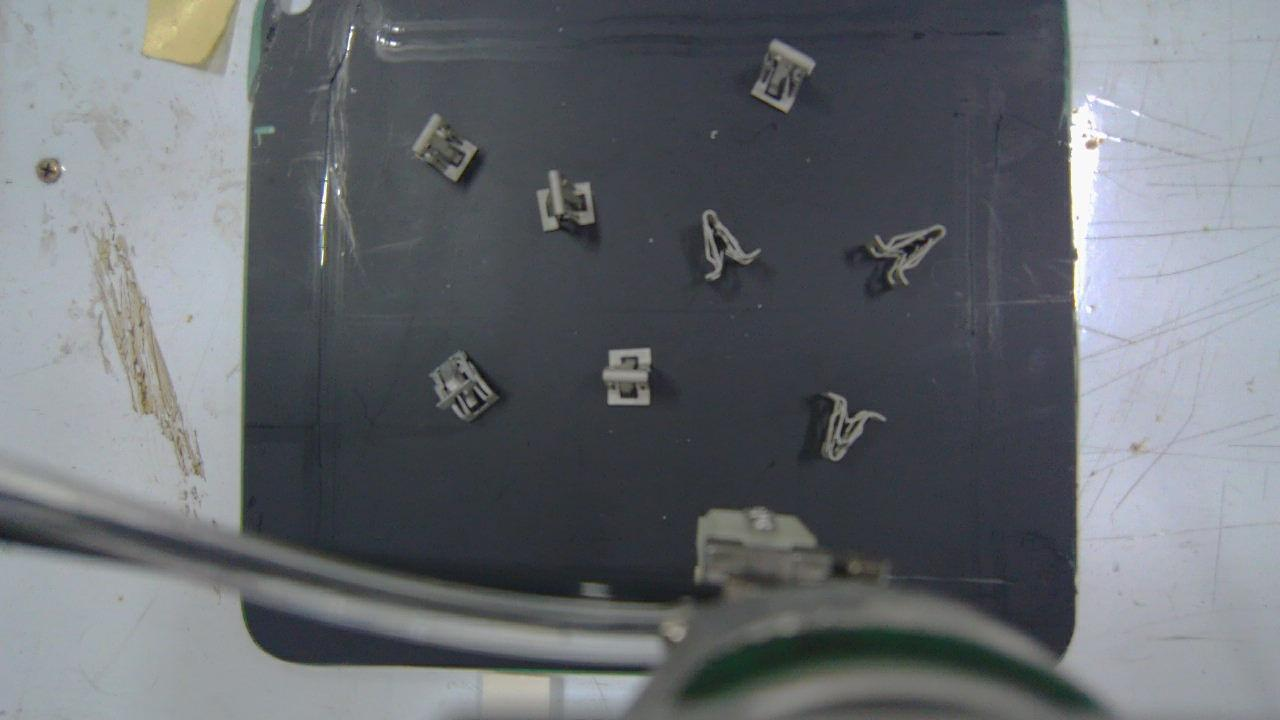ng: (749, 40, 816, 112), (431, 351, 499, 420), (413, 114, 479, 182), (870, 227, 944, 286), (822, 390, 884, 460), (702, 209, 760, 277)
pass: (538, 169, 596, 229), (601, 347, 652, 408)
